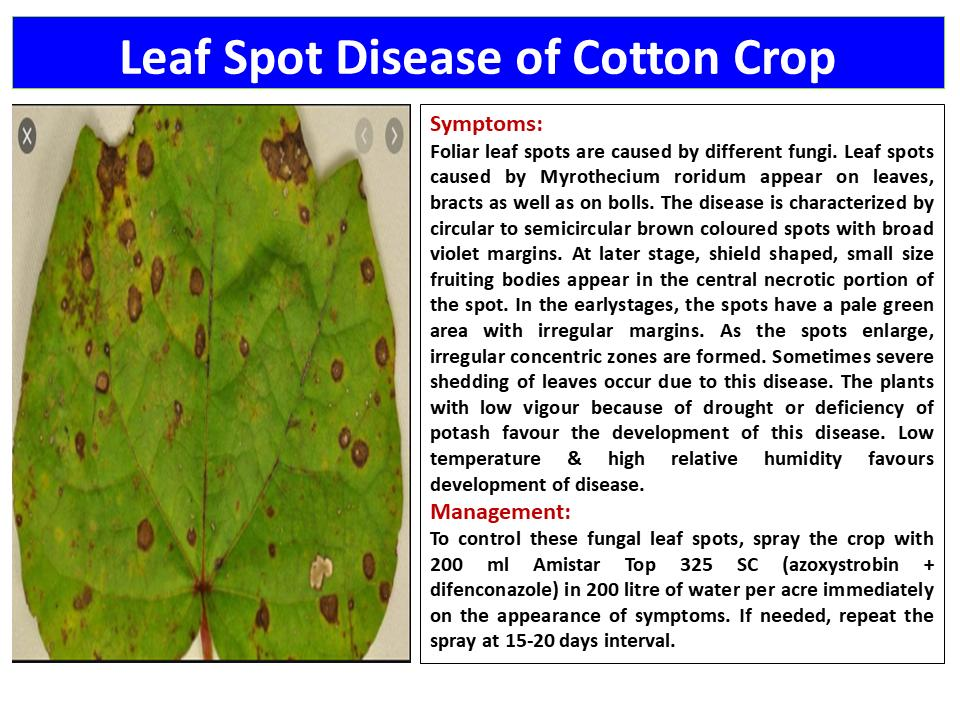black-spot: (62, 190, 219, 576)
